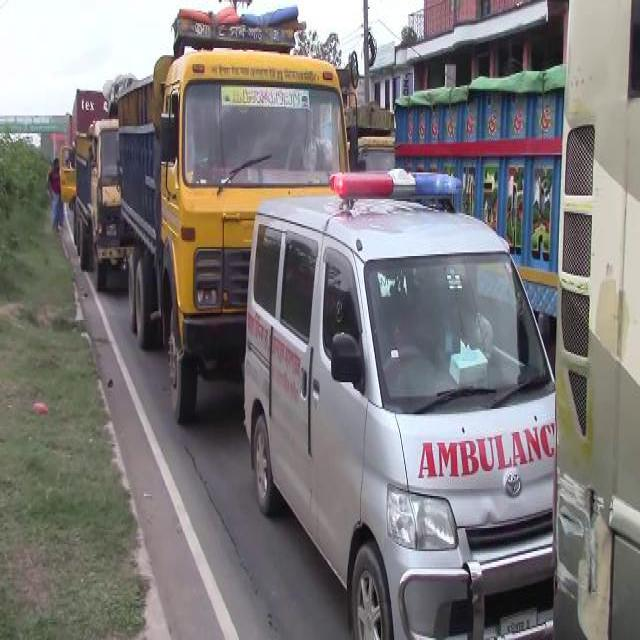vehicle: (244, 170, 553, 639), (117, 5, 239, 427), (76, 120, 117, 294)
